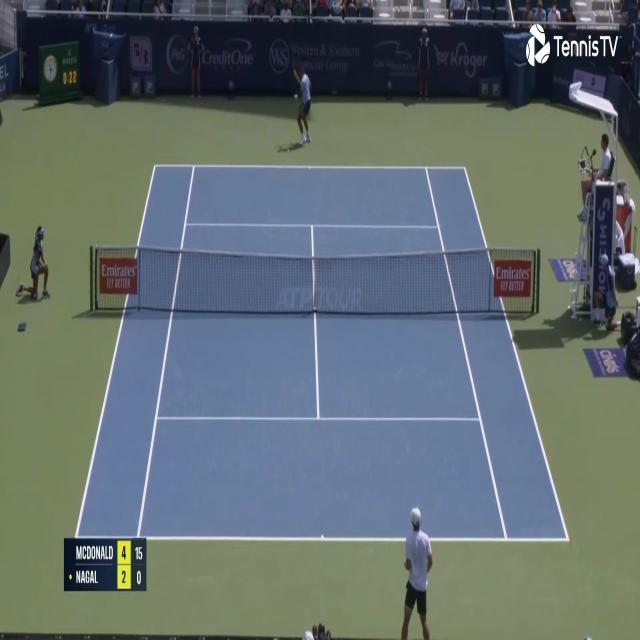tennis-player: (398, 504, 434, 640), (291, 60, 313, 147)
